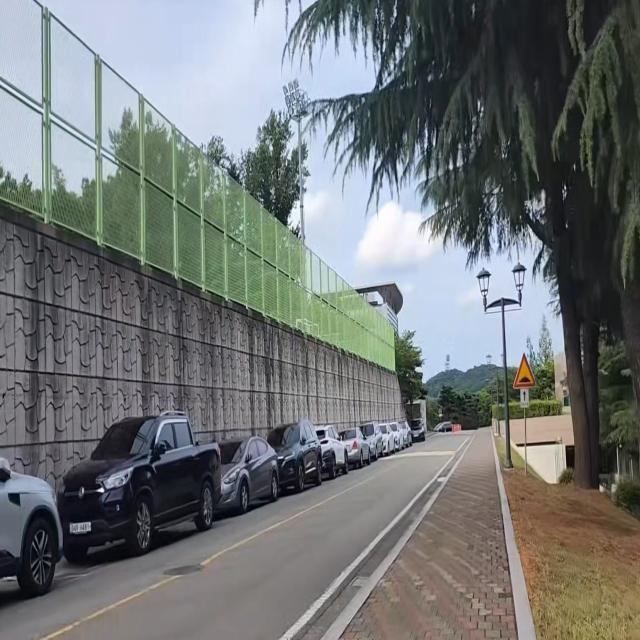obstacle: (0, 414, 427, 607), (475, 253, 525, 472)
road: (0, 437, 473, 640)
sidewalk: (323, 423, 539, 640)
